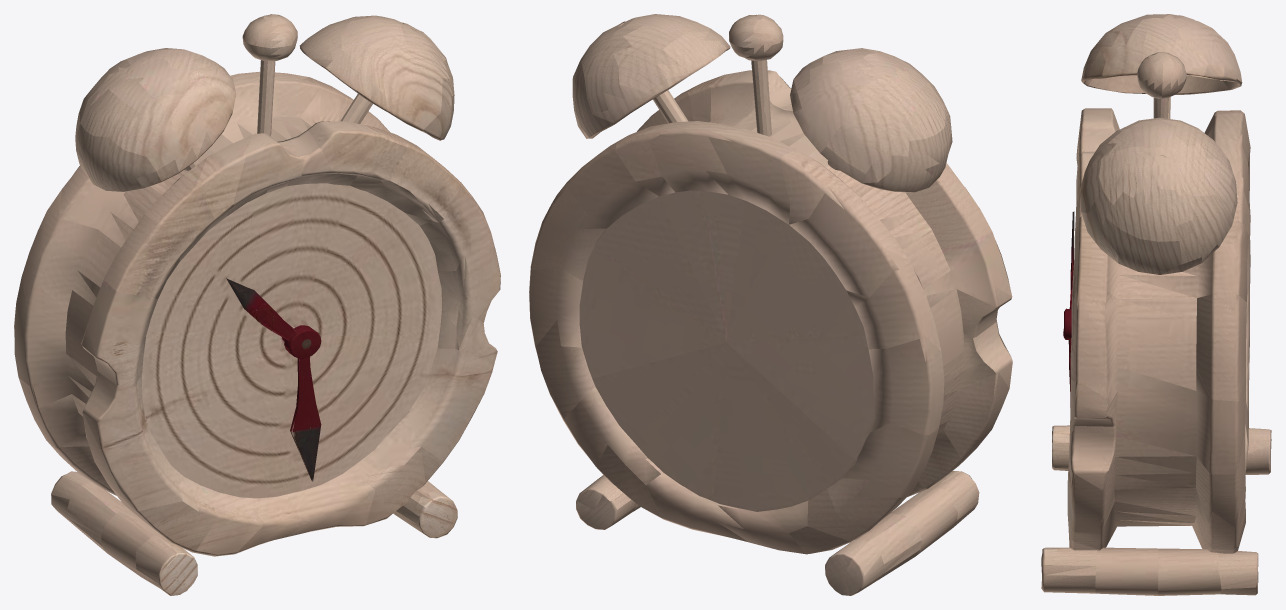
The model's file is reveil.glb.
The picture shows the model from 3 angles, left to right: view 1: azimuth 30°, elevation 25°; view 2: azimuth 150°, elevation 25°; view 3: azimuth 270°, elevation 25°; orthographic projection. The views are drawn at different scales.
Parts seen in each view (by area): view 1: mesh_node; view 2: mesh_node; view 3: mesh_node.
Part boxes in pixels (x1,y1,x2,y2): mesh_node: [14, 14, 500, 595]; mesh_node: [529, 14, 1012, 595]; mesh_node: [1041, 14, 1271, 595].
Bounding box in the file's own units: 0.8457 × 1 × 0.4297.
Materials: 1 (1 with a texture image).
